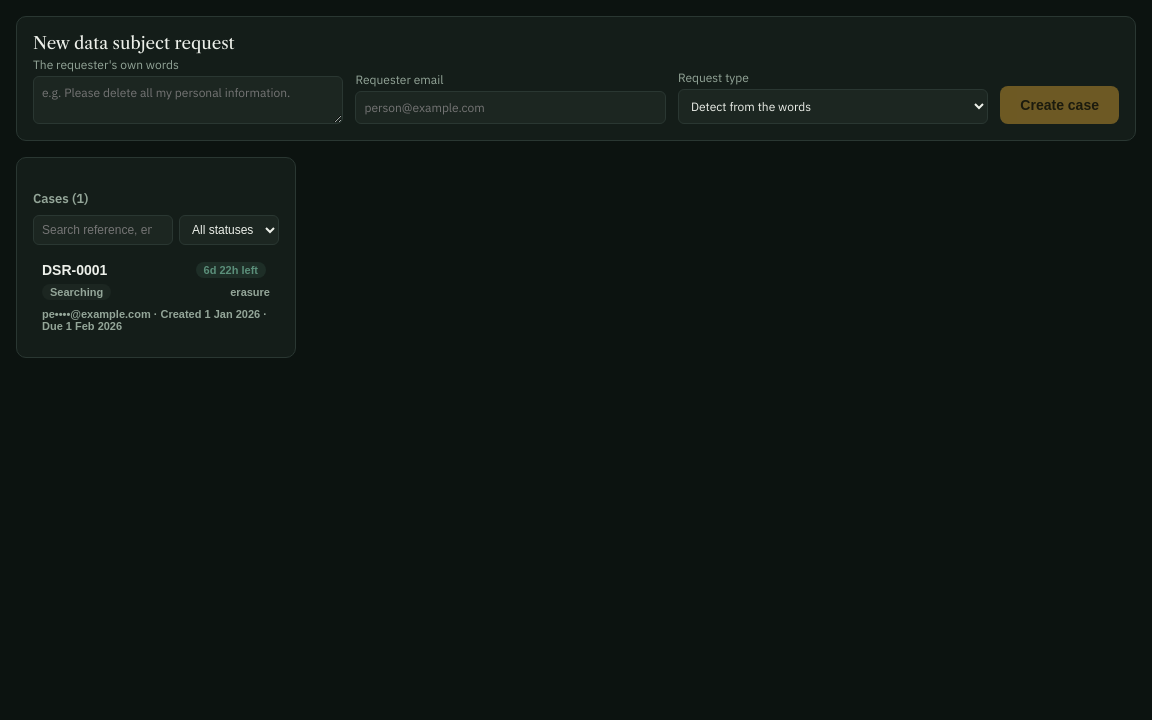
Test: DsrDashboard: evidence tab reflects actual search outcome, not just evidence count › a search still running says so, and does not claim any result
Expected: the text "DSR-0001" is shown, [42, 262, 107, 278]
Step 1. Click the button "DSR-0001" → coordinates (156, 297), box [33, 253, 279, 341]
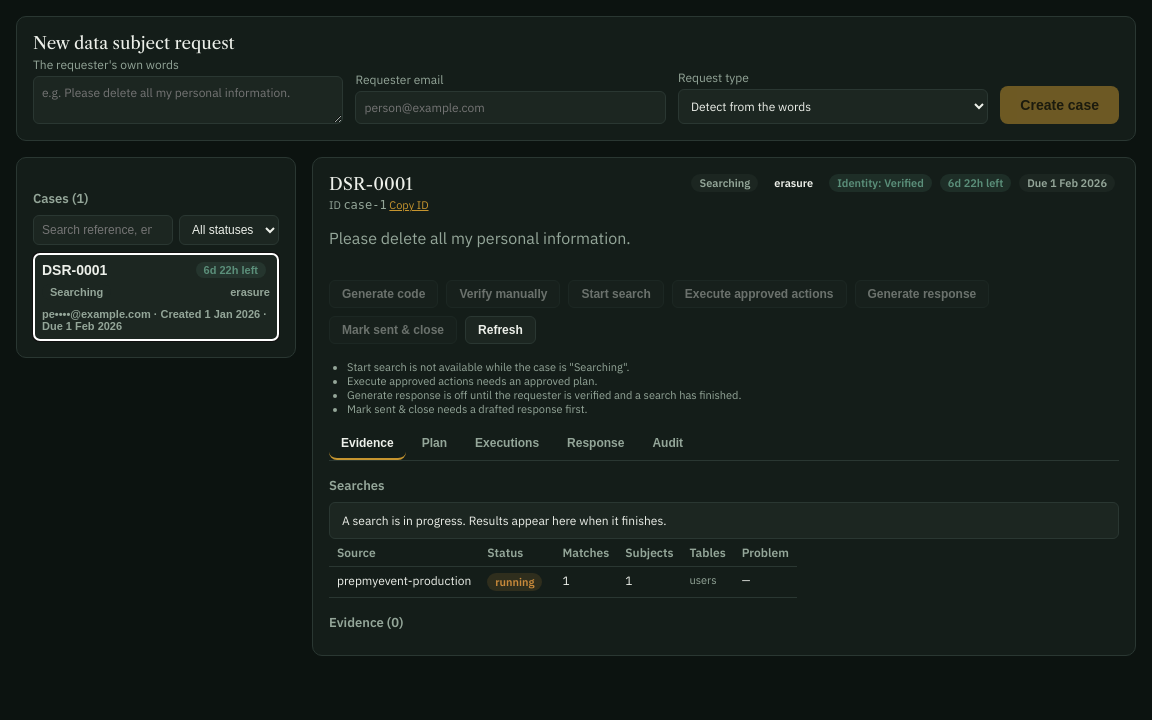
Result: the heading "DSR-0001" is shown at [329, 174, 413, 194]
Result: the heading "Evidence (0)" is shown at [329, 614, 403, 631]
Result: the text "A search is in progress. Results appear here when it finishes." is shown at [329, 502, 1119, 539]
